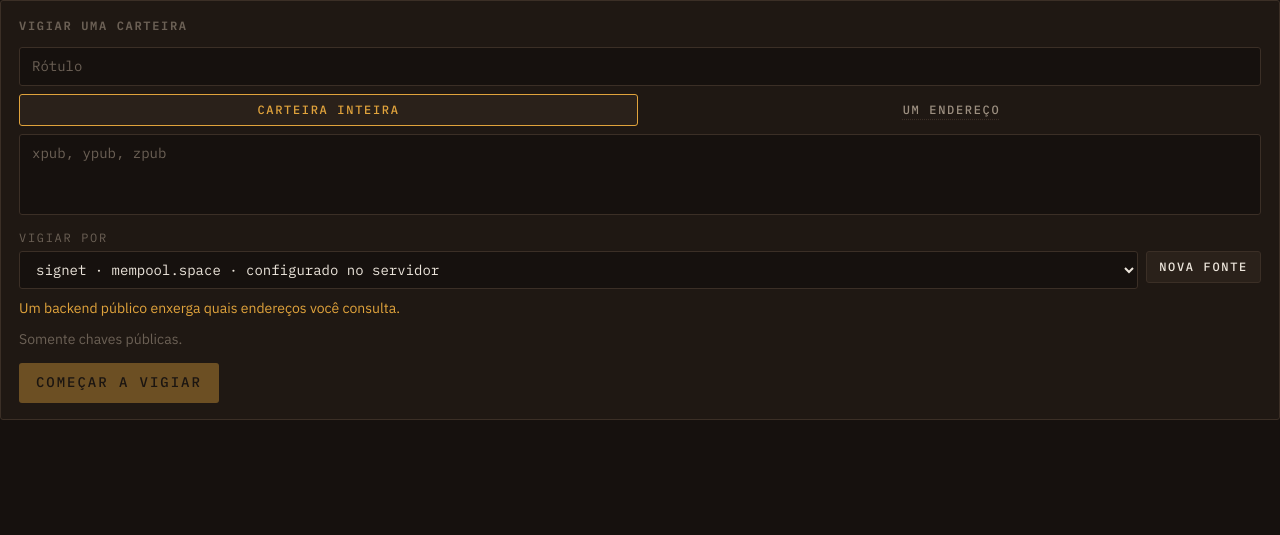
Test: AddWallet — tipo de script › pergunta o tipo quando a chave não diz qual é
Type "tpubDCxX2sYFS5bDkSe5GKKYHjBW7tgyN1R3UchpLJvdbf54ohxeGRtd8MbDUe1cguVHe4vnK68DsuD5MXjxi9EXx16rb9EnNsaF5KT99CinaJz" into the text box with placeholder "xpub, ypub, zpub" at (640, 174), box [19,134,1261,215]
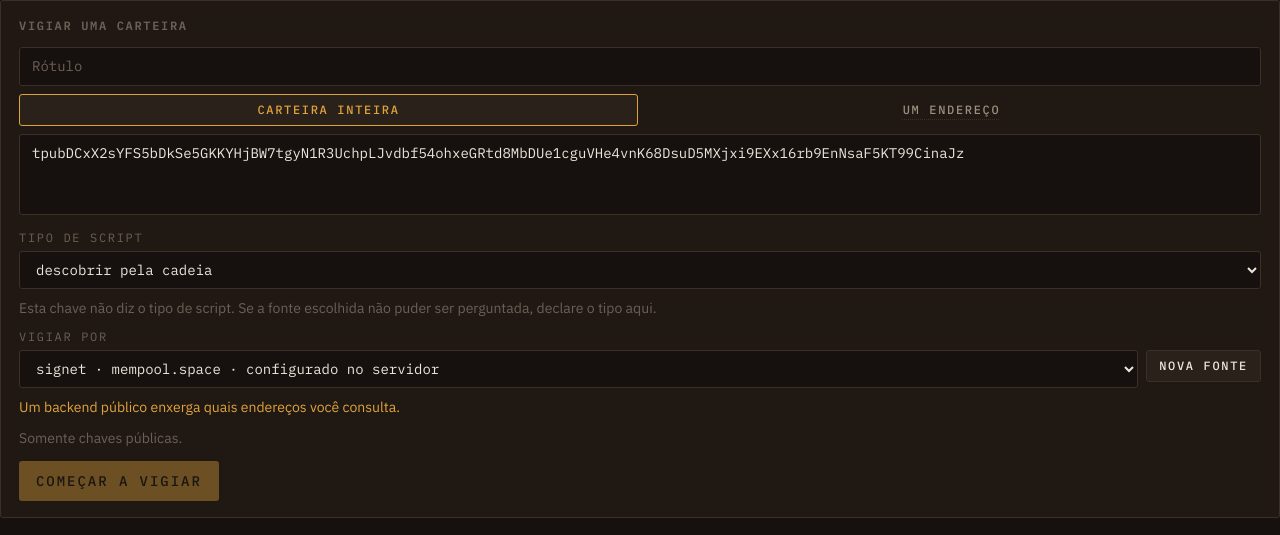
Expected: the dropdown labelled "Tipo de script" is shown, [19,251,1261,289]
